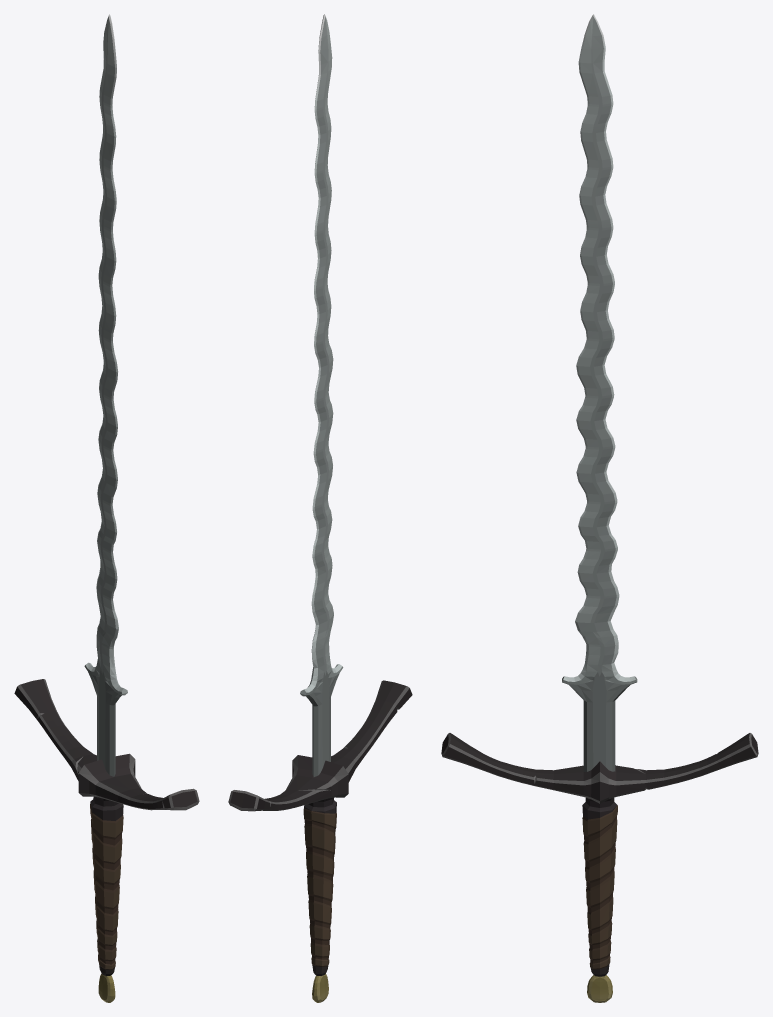
The model's file is bladedHeavyFlamgberge.glb.
3 views of the same model, side by side, from view 1: azimuth 30°, elevation 25°; view 2: azimuth 150°, elevation 25°; view 3: azimuth 270°, elevation 25° (orthographic).
Parts seen in each view (by area): view 1: bladedHeavyFlamgberge; view 2: bladedHeavyFlamgberge; view 3: bladedHeavyFlamgberge.
Boxes of the visible parts, x1,y1,x2,y2 form: bladedHeavyFlamgberge: (14, 14, 199, 1002); bladedHeavyFlamgberge: (228, 14, 412, 1002); bladedHeavyFlamgberge: (441, 14, 758, 1002).
Size of the model in its own units: 0.101 by 1.68 by 0.4886.
